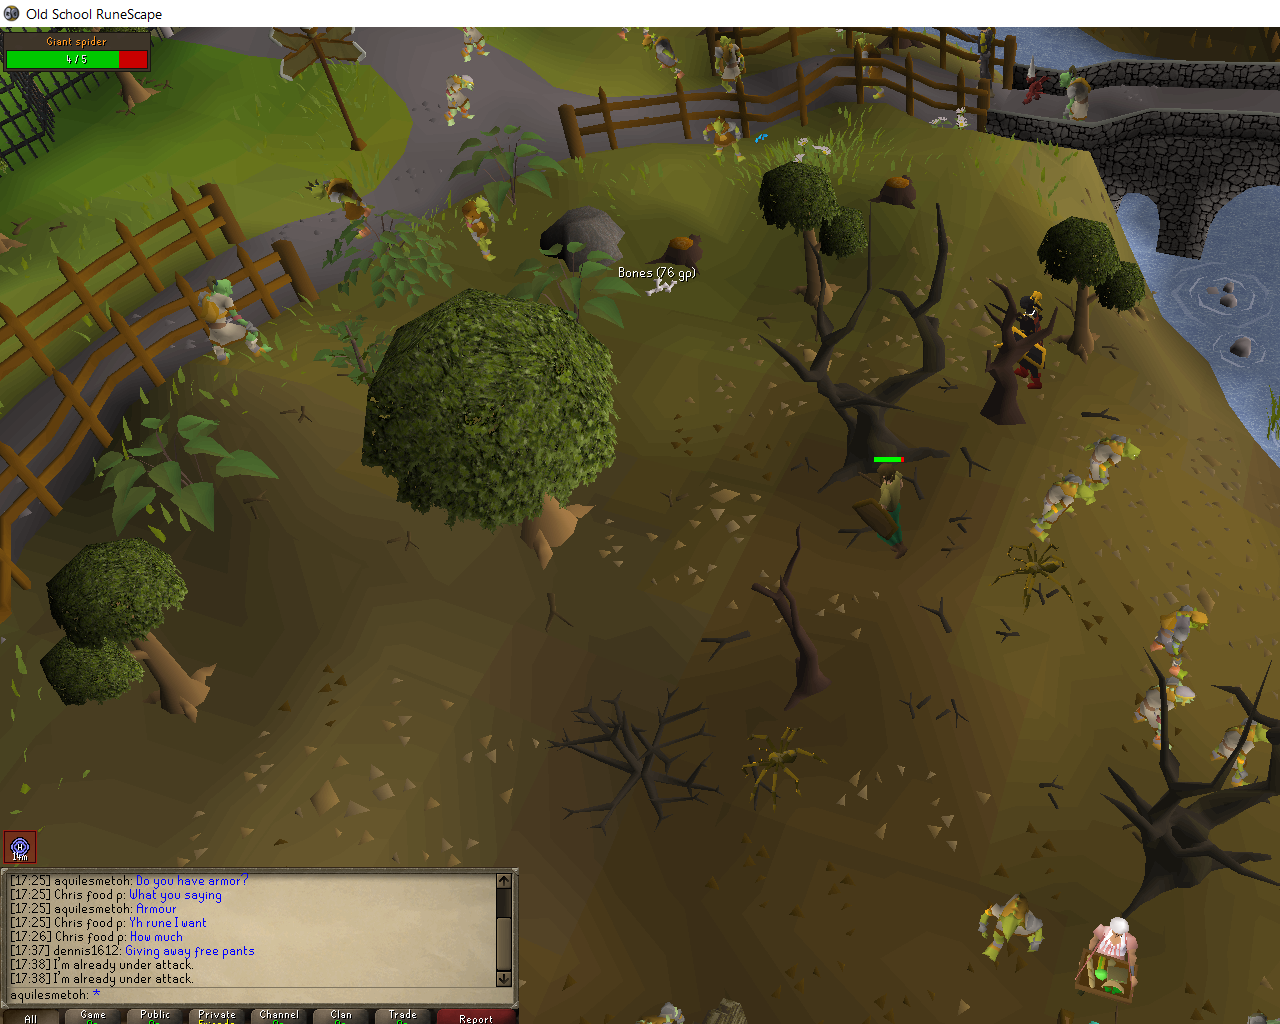Goblin: (192, 275, 275, 367), (1027, 468, 1107, 545), (1211, 717, 1280, 801), (301, 173, 377, 243), (1147, 601, 1210, 685), (1132, 677, 1196, 757), (977, 897, 1051, 965), (840, 37, 893, 103), (1083, 433, 1142, 491), (459, 193, 505, 267), (707, 34, 761, 95), (697, 117, 752, 167), (1053, 68, 1098, 129), (639, 33, 686, 86), (441, 72, 478, 127), (451, 28, 494, 64)
